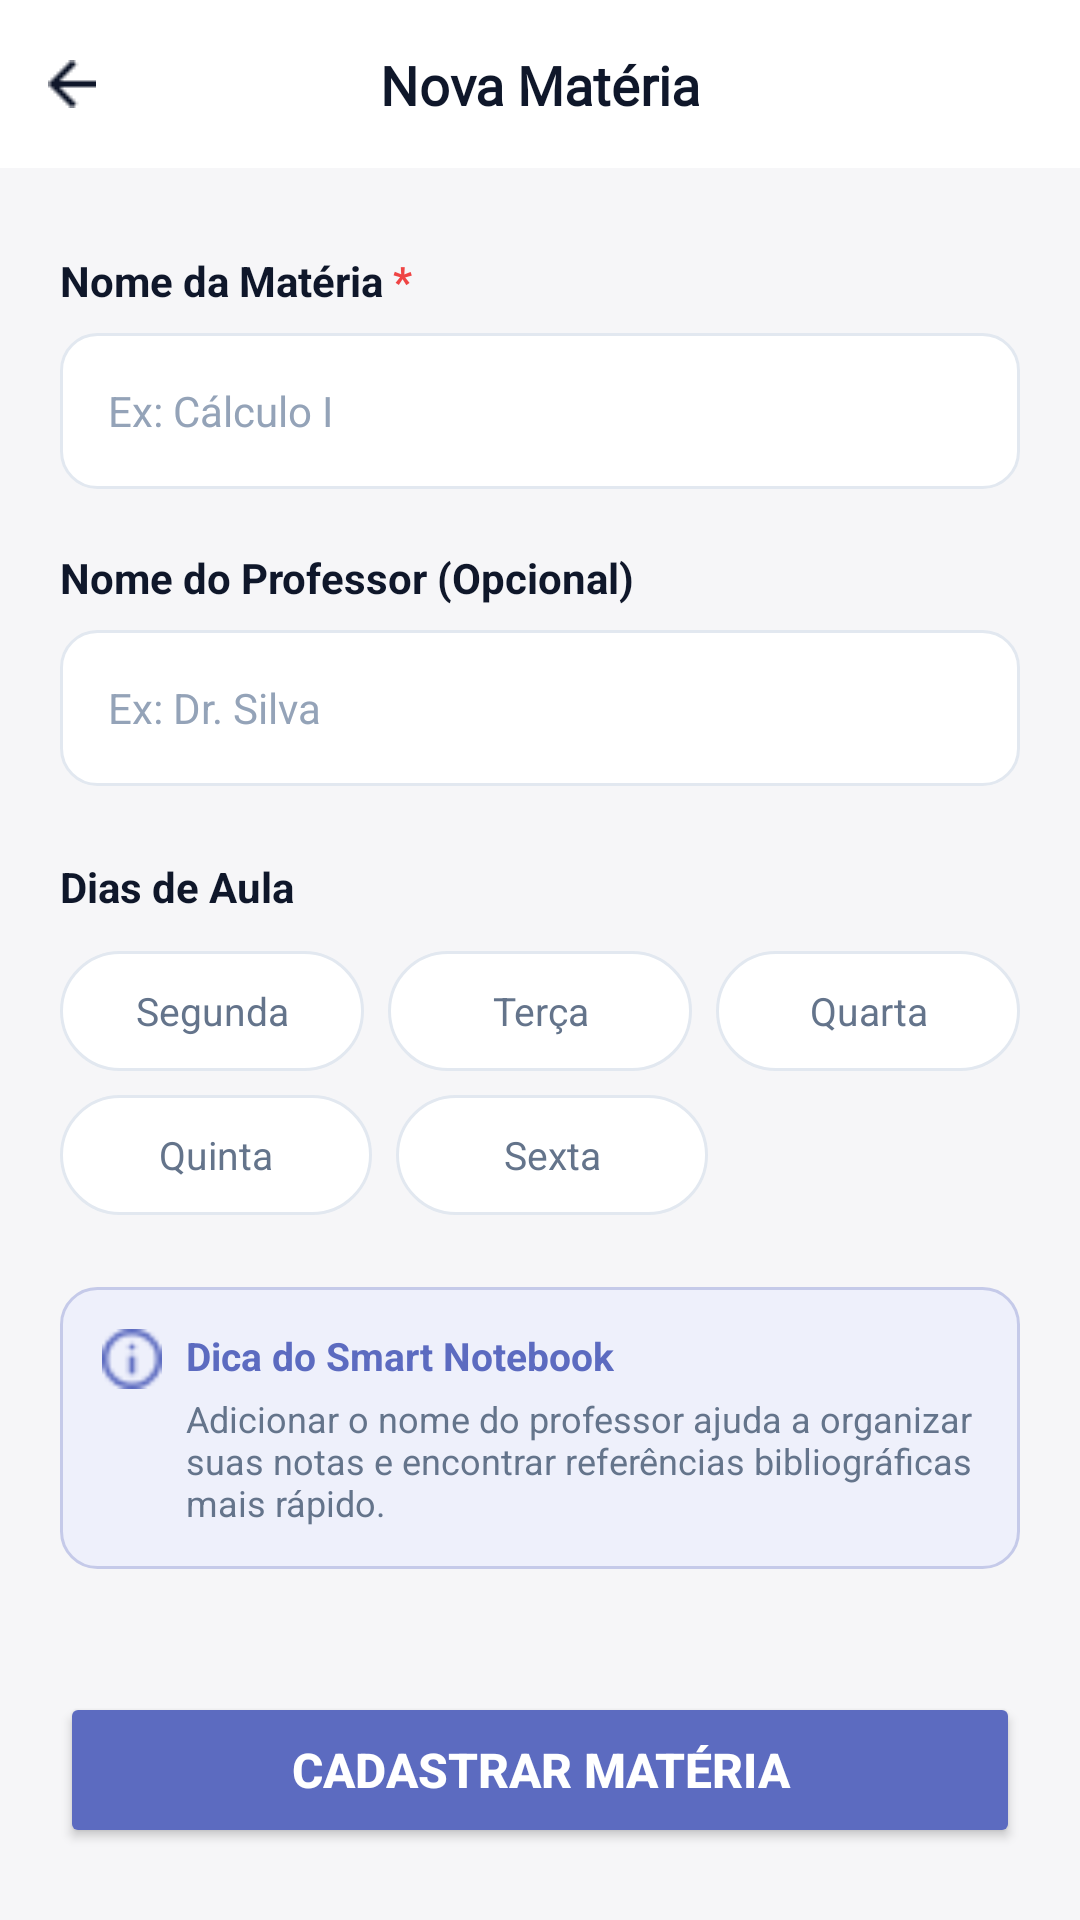

Screen size 1080x1920. Icon name, then its box in pixels as [x1, y1, x2, y2]:
info: [102, 1329, 162, 1389]
Voltar: [48, 60, 96, 108]
